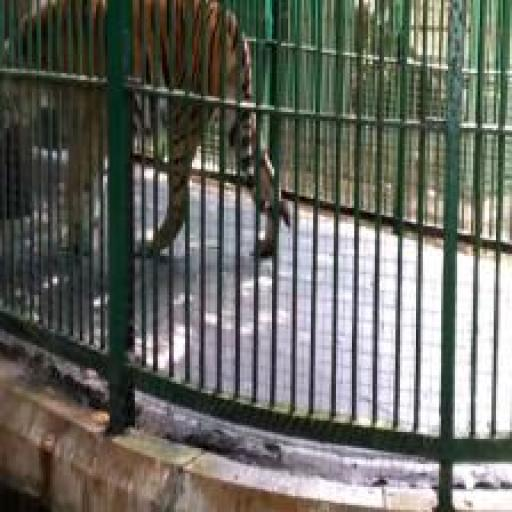Tiger: (0, 4, 299, 293)
